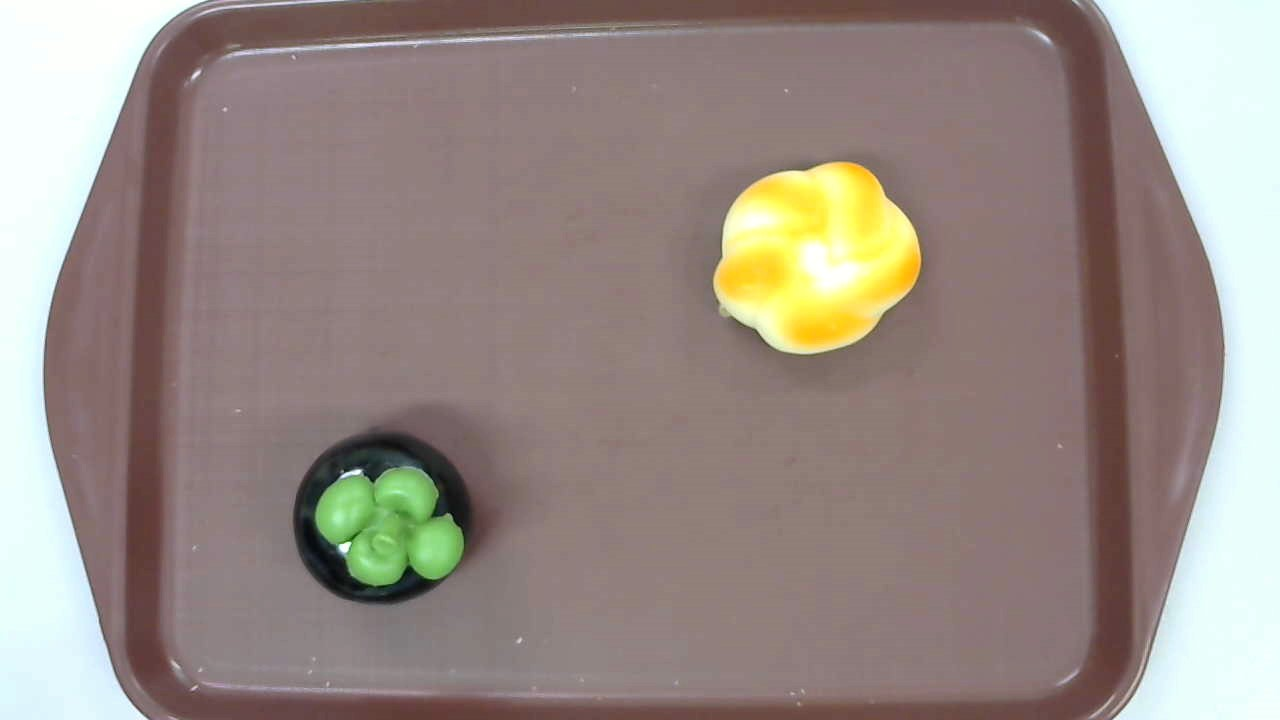mangosteen: (291, 431, 471, 606)
twist bread: (714, 162, 922, 358)
